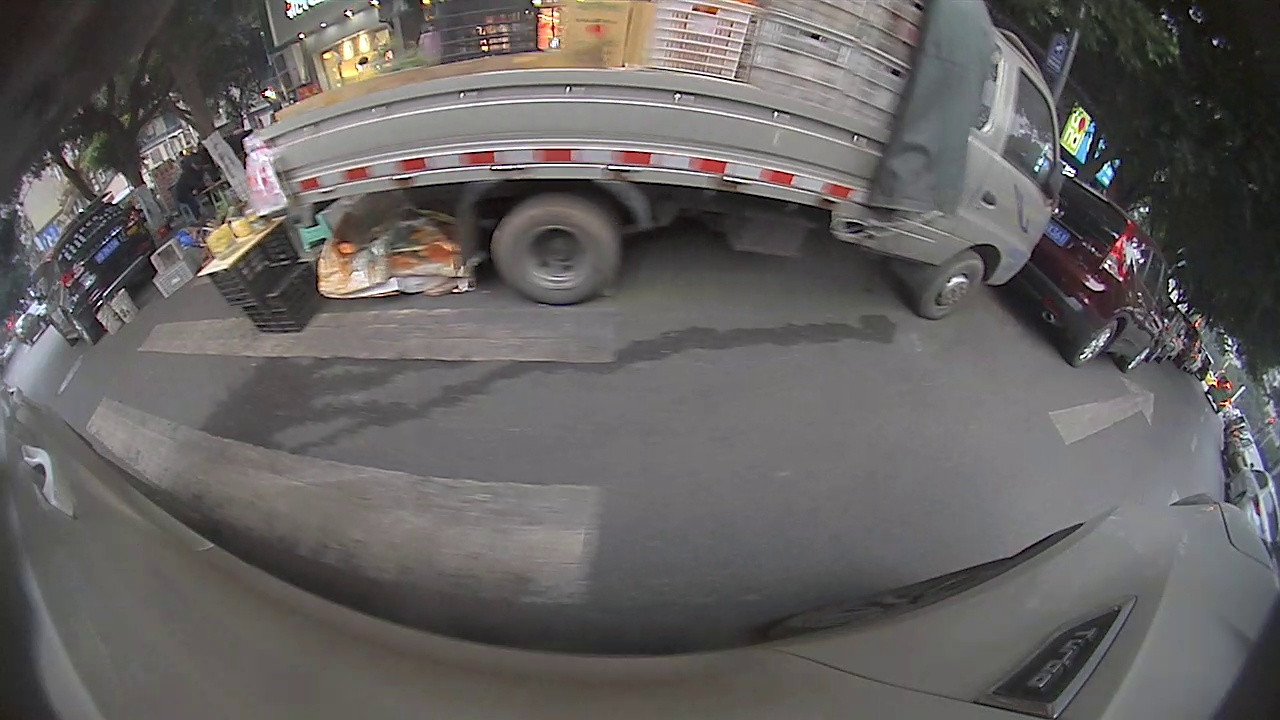car: (1014, 167, 1170, 371), (43, 196, 159, 349)
front: (919, 257, 986, 318), (1123, 341, 1157, 373)
rear: (492, 200, 621, 309), (1073, 317, 1121, 369), (63, 311, 96, 348)
truck: (258, 2, 1064, 318)
